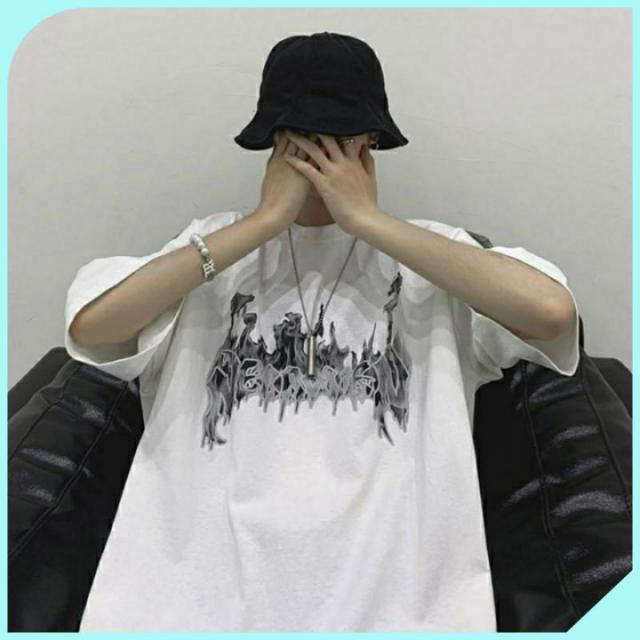Shirt: (56, 205, 580, 636)
